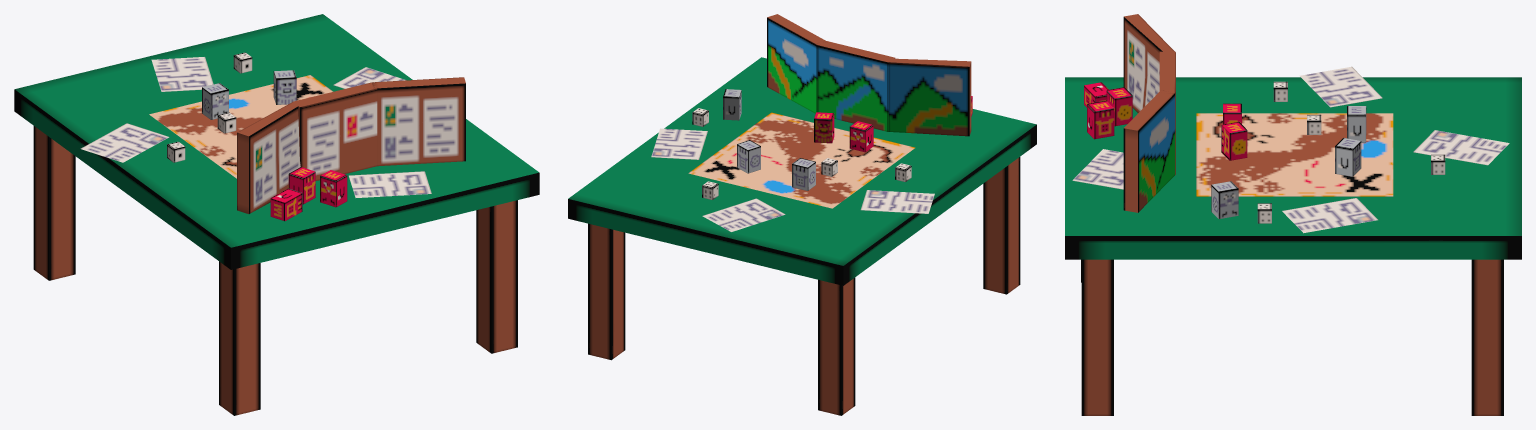
File: rpg3.obj
3 renders of one model, left to right at view 1: azimuth 30°, elevation 25°; view 2: azimuth 150°, elevation 25°; view 3: azimuth 270°, elevation 25°, orthographic. The views are drawn at different scales.
Parts seen in each view (by area): view 1: rpg3; view 2: rpg3; view 3: rpg3.
Boxes of the visible parts, x1=… form: rpg3: x1=14, y1=14, x2=539, y2=415; rpg3: x1=568, y1=14, x2=1036, y2=415; rpg3: x1=1065, y1=14, x2=1521, y2=415.
Size of the model in its own units: 4 by 3.04 by 4.64.
1 material, 1 textured.
